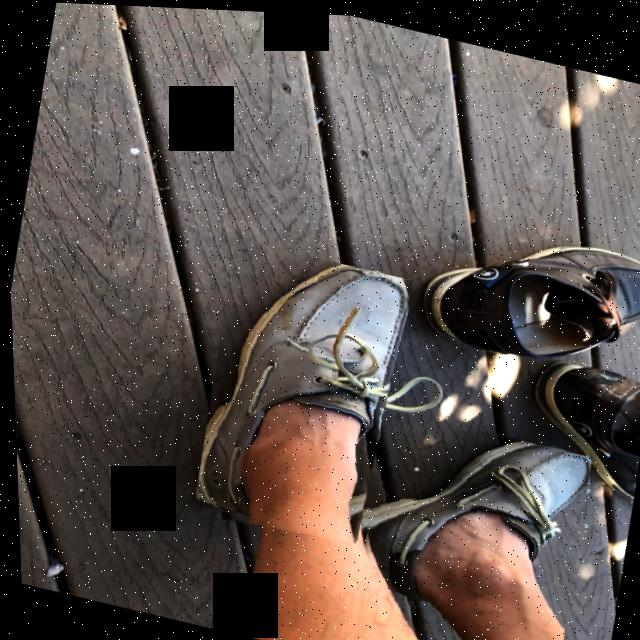shoe: (191, 263, 407, 521), (363, 438, 588, 640)
